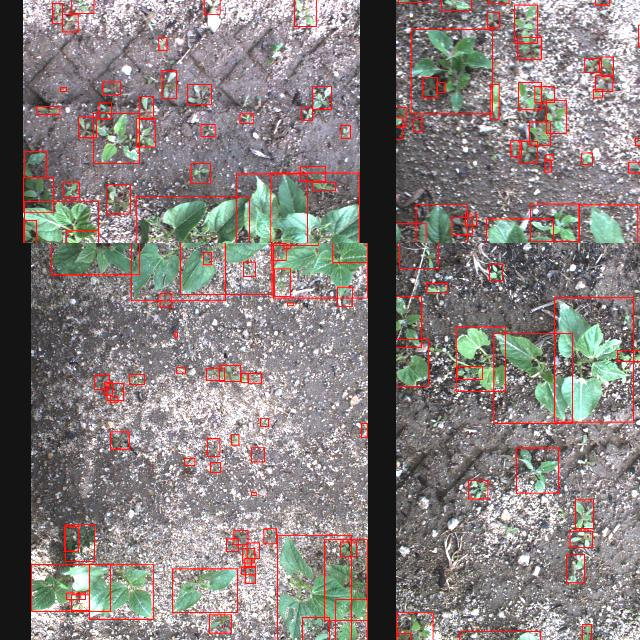crop: (554, 298, 634, 422), (278, 535, 352, 640), (493, 333, 572, 423), (270, 172, 359, 243), (135, 196, 249, 243), (131, 243, 225, 300), (274, 243, 368, 298), (236, 173, 307, 243), (180, 243, 272, 294), (31, 564, 110, 612), (89, 564, 153, 620), (324, 540, 368, 620), (455, 326, 505, 392), (23, 202, 98, 243), (172, 569, 238, 613), (51, 243, 139, 274), (578, 204, 637, 243), (415, 204, 466, 243), (486, 219, 554, 243), (396, 339, 427, 386), (459, 630, 540, 640), (332, 243, 367, 263), (396, 223, 425, 243), (66, 231, 98, 243), (22, 220, 35, 243)
weed: (410, 30, 492, 114), (93, 113, 139, 163), (516, 448, 558, 492), (530, 204, 578, 242), (336, 599, 368, 640), (396, 296, 421, 347), (64, 524, 94, 562), (23, 178, 53, 212), (396, 612, 432, 640), (398, 243, 437, 268), (514, 5, 538, 43), (106, 184, 130, 214), (546, 100, 566, 134), (302, 617, 329, 640), (518, 82, 540, 110), (294, 0, 316, 27), (136, 119, 156, 148), (24, 152, 46, 178), (517, 37, 541, 59), (528, 122, 550, 146), (575, 499, 593, 528), (566, 554, 584, 582), (187, 85, 211, 105), (313, 86, 332, 110), (274, 268, 290, 296), (300, 166, 326, 182), (190, 163, 210, 183), (78, 116, 96, 138), (519, 141, 537, 163), (209, 615, 231, 633), (570, 530, 592, 548), (162, 70, 176, 98), (468, 479, 488, 498), (64, 526, 78, 552), (452, 217, 472, 235), (422, 76, 438, 98), (456, 366, 482, 379), (139, 96, 153, 120), (534, 87, 554, 103), (220, 365, 240, 381), (106, 384, 124, 401), (441, 0, 471, 10), (62, 14, 78, 32), (491, 84, 499, 120), (110, 432, 128, 448), (71, 595, 89, 611), (71, 0, 93, 13), (338, 286, 352, 306), (63, 182, 79, 198), (596, 76, 612, 92), (617, 350, 640, 361), (602, 57, 614, 77), (272, 243, 286, 260), (102, 82, 120, 95), (207, 438, 220, 456), (98, 103, 112, 119), (204, 0, 220, 14), (584, 58, 600, 72), (94, 374, 108, 390), (341, 542, 357, 556), (488, 264, 502, 280), (206, 368, 224, 380), (244, 566, 256, 584), (427, 283, 448, 293), (52, 3, 62, 23), (396, 107, 406, 127), (234, 530, 248, 544), (312, 182, 336, 190), (487, 12, 499, 28), (264, 528, 276, 544), (243, 548, 255, 564), (247, 543, 259, 559), (36, 106, 59, 114), (201, 124, 215, 136), (243, 262, 255, 276), (252, 448, 264, 462), (226, 538, 238, 552), (160, 294, 172, 308), (511, 141, 521, 157), (66, 592, 86, 600), (582, 624, 592, 640), (412, 118, 422, 132), (130, 374, 144, 384), (248, 373, 262, 383), (629, 161, 640, 172), (240, 114, 252, 124), (302, 108, 312, 120), (466, 214, 476, 226), (582, 152, 592, 164), (342, 125, 351, 138), (242, 567, 256, 575), (396, 117, 401, 138), (159, 38, 167, 51), (210, 462, 220, 472), (104, 383, 112, 395), (204, 253, 212, 265), (593, 89, 603, 98), (183, 458, 194, 466), (362, 423, 368, 437), (436, 82, 444, 92), (244, 558, 252, 568), (545, 160, 551, 172), (241, 373, 249, 382), (232, 434, 238, 446), (260, 418, 268, 426), (594, 0, 609, 4), (110, 397, 118, 403), (546, 154, 552, 160), (177, 368, 186, 372), (284, 243, 290, 248), (636, 138, 640, 145), (60, 88, 66, 92), (288, 302, 294, 306), (252, 492, 256, 496), (175, 332, 177, 336)
